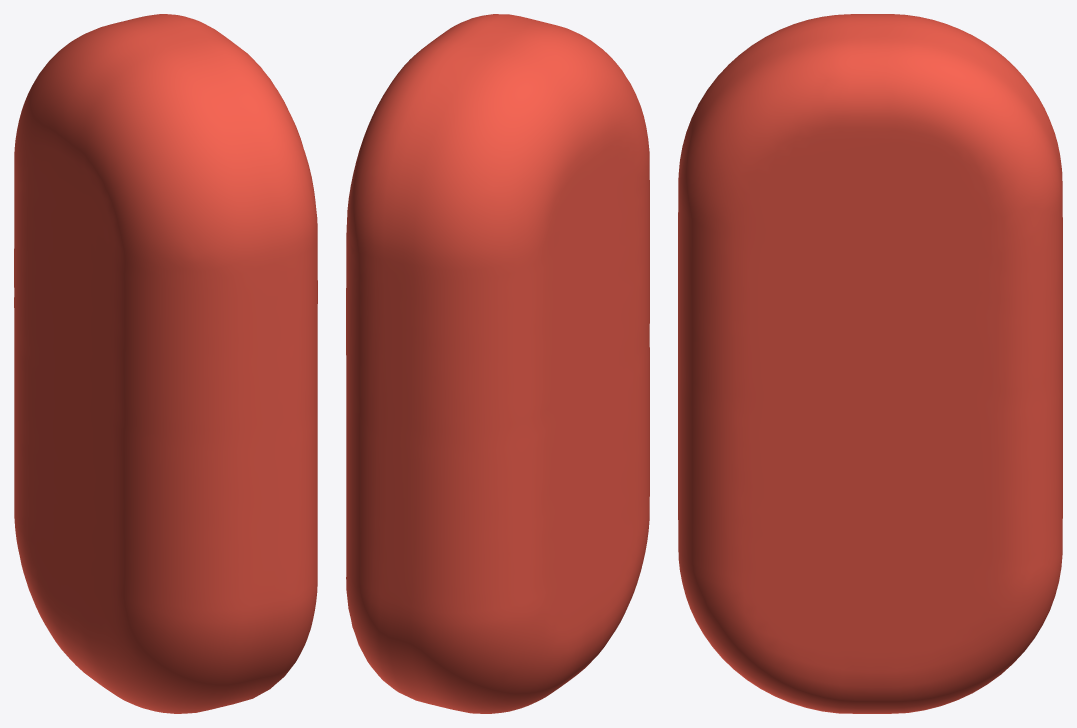
The model's file is Capsule_Pill_Individual_Red.glb.
3 renders of one model, left to right at view 1: azimuth 30°, elevation 25°; view 2: azimuth 150°, elevation 25°; view 3: azimuth 270°, elevation 25°, orthographic. The views are drawn at different scales.
Visible parts, largest first — view 1: Capsule_Pill.017; view 2: Capsule_Pill.017; view 3: Capsule_Pill.017.
Part boxes in pixels (left/top/right/bottom): Capsule_Pill.017: left=14, top=14, right=317, bottom=713; Capsule_Pill.017: left=346, top=14, right=649, bottom=713; Capsule_Pill.017: left=678, top=14, right=1062, bottom=713.
Bounding box in the file's own units: 0.6078 × 2.16 × 1.13.
Materials: 1 (1 with a texture image).
